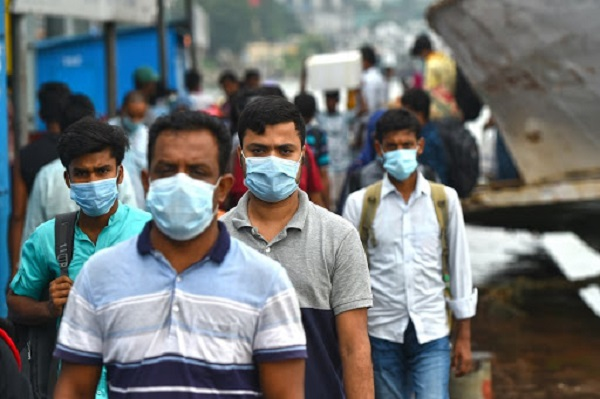with_mask: (150, 144, 217, 240), (243, 133, 298, 200), (69, 156, 115, 217), (383, 133, 415, 178)
